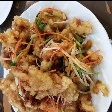guobaorou: (0, 7, 107, 112)
